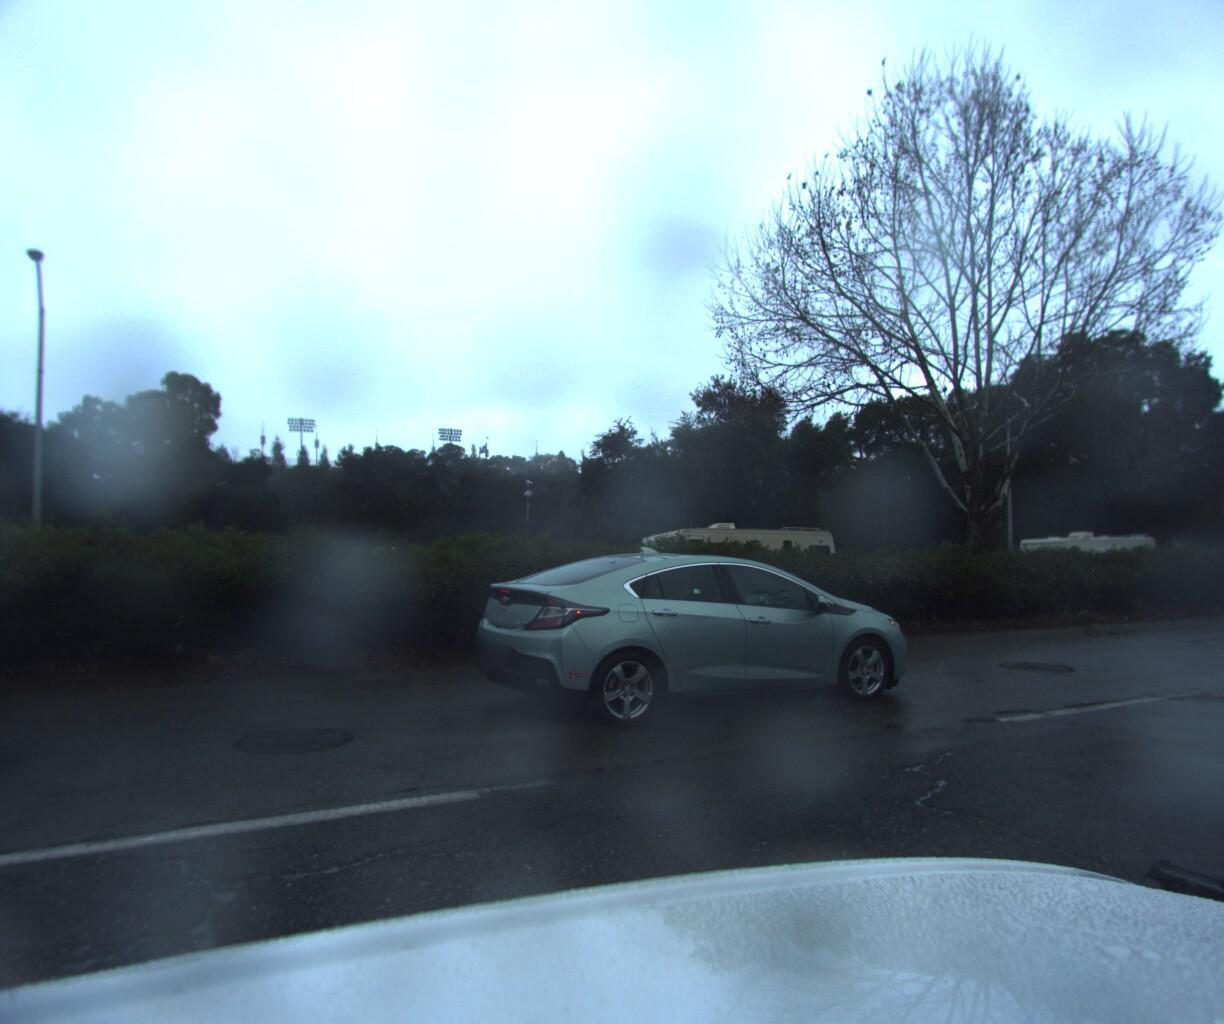car: (455, 535, 925, 733)
other_vehicle: (619, 515, 843, 613), (1005, 525, 1165, 598)
